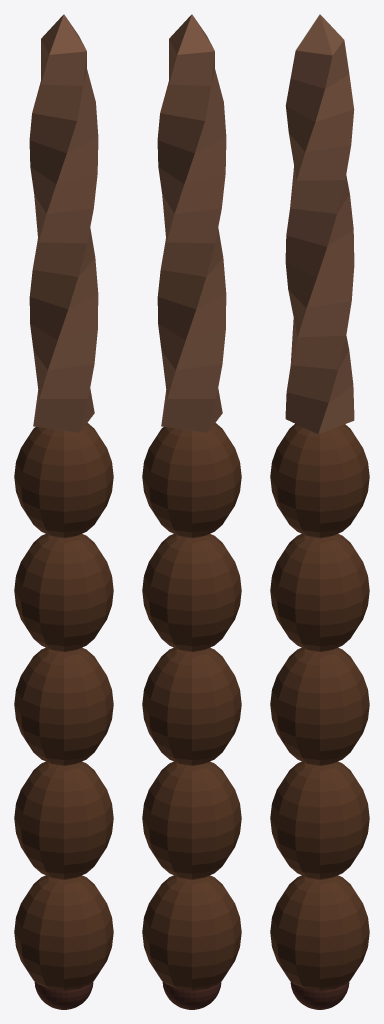
Rendered from Wand 253.glb.
3 renders of one model, left to right at view 1: azimuth 30°, elevation 25°; view 2: azimuth 210°, elevation 25°; view 3: azimuth 270°, elevation 25°, orthographic.
Visible parts, largest first — view 1: GeneratedWand; view 2: GeneratedWand; view 3: GeneratedWand.
Boxes of the visible parts, x1,y1,x2,y2 form: GeneratedWand: [14, 14, 113, 1009]; GeneratedWand: [142, 14, 241, 1009]; GeneratedWand: [270, 14, 369, 1009].
Bounding box in the file's own units: 0.0447 × 0.4947 × 0.0449.
